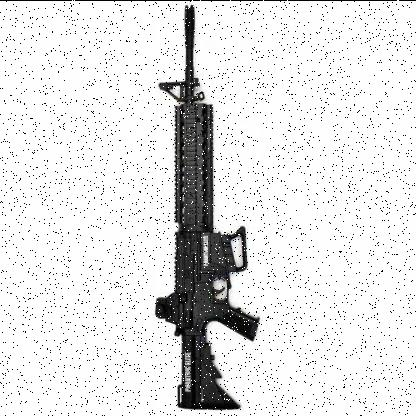rifle: (146, 6, 284, 416)
